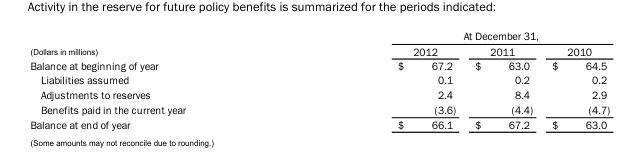table: (29, 29, 609, 130)
table column: (29, 29, 291, 130), (291, 29, 464, 130), (464, 29, 541, 130), (541, 29, 609, 130)
table column header: (29, 29, 609, 58)
table row: (29, 43, 609, 58), (29, 86, 609, 101), (29, 101, 609, 116), (29, 29, 609, 43), (29, 58, 609, 72), (29, 72, 609, 86), (29, 116, 609, 130)
table spanning cell: (29, 29, 291, 58), (291, 29, 609, 43)
